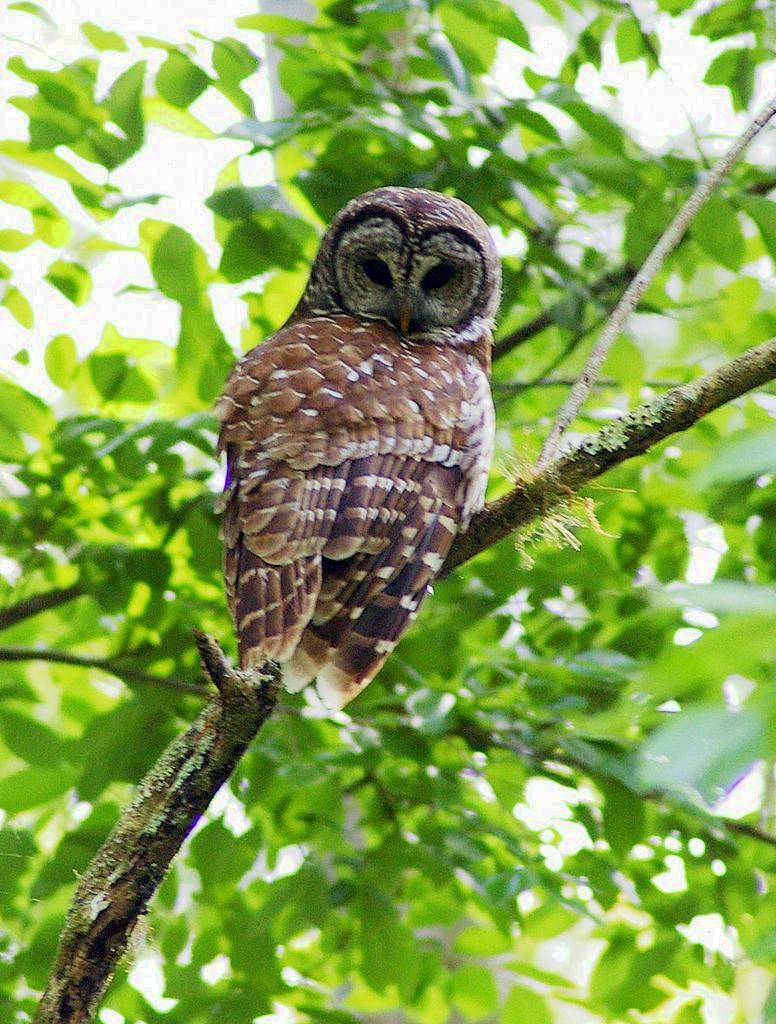Owl: (208, 186, 507, 712)
